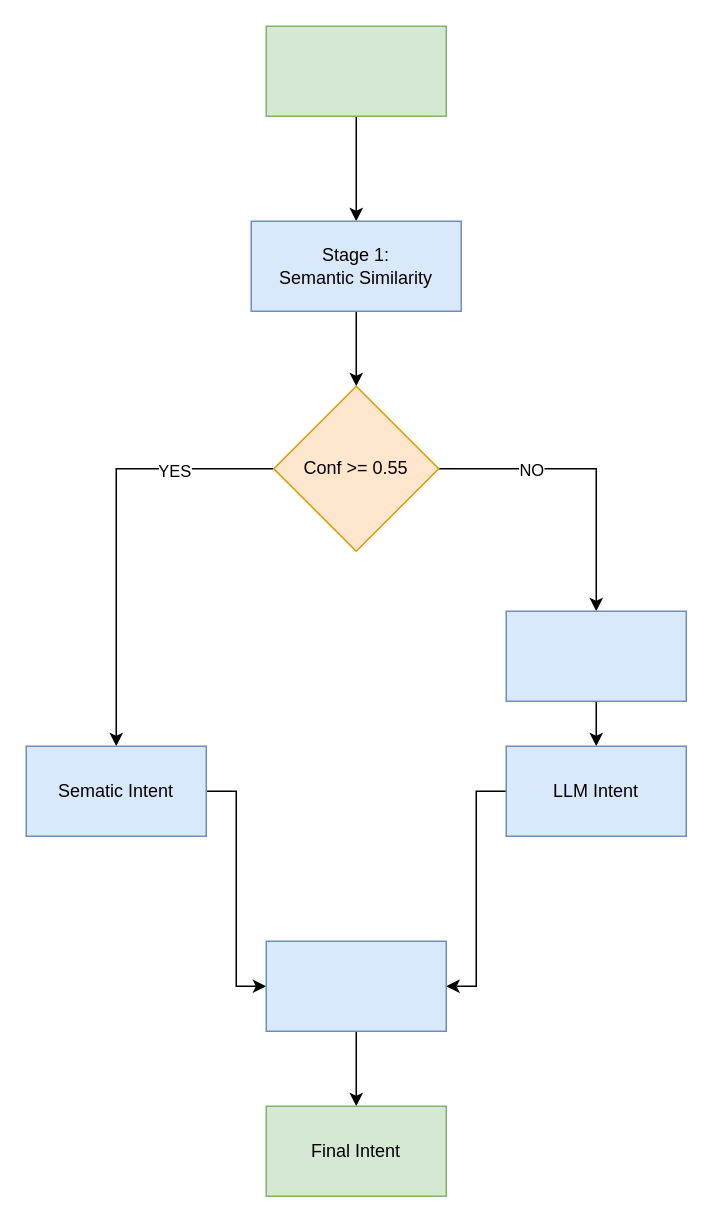
This 713x1223 diagram has some shape labels left out. Each missing label, with the centre of its shape:
Player Input: pixel 355 70
Stage 2: LLM Fallback: pixel 595 655
Stage 3: Keyword Overrides: pixel 355 985
